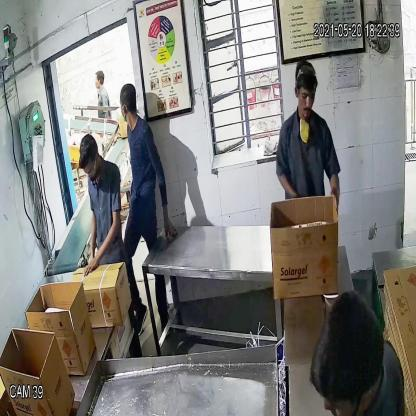no_goggles: (293, 85, 320, 107)
